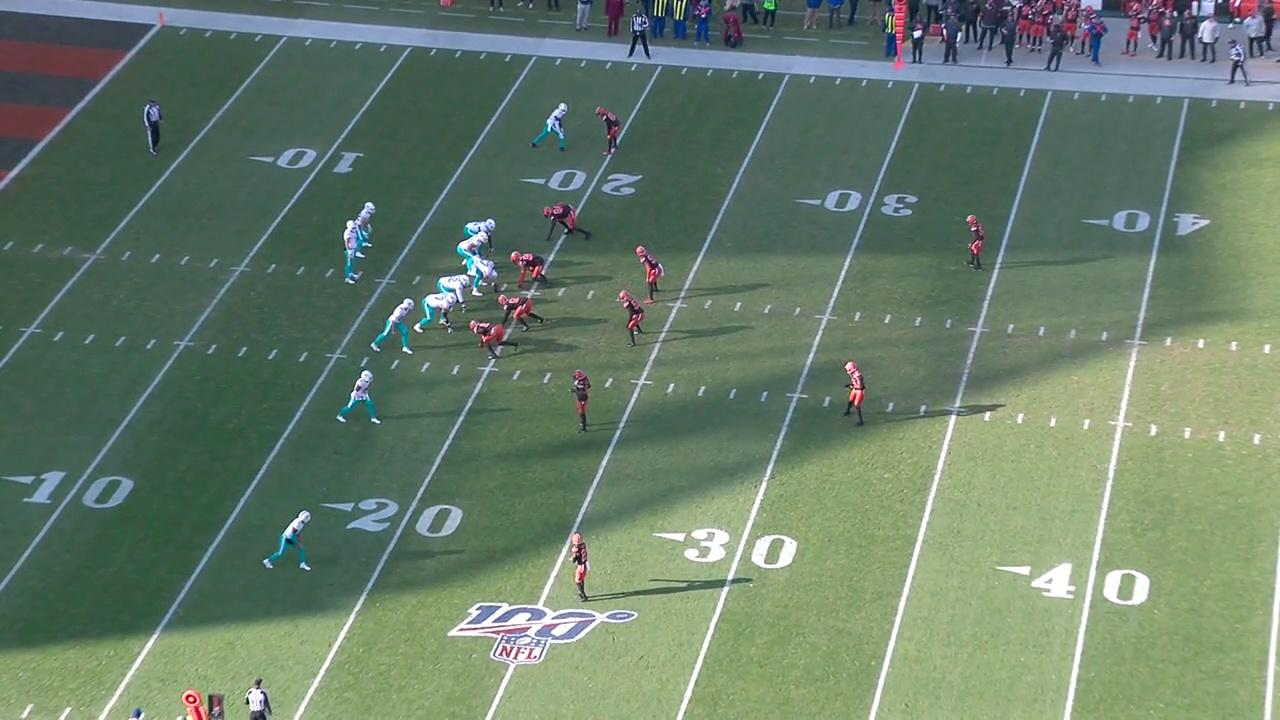defense: (466, 322, 520, 364), (542, 198, 590, 242), (567, 530, 592, 607), (505, 248, 549, 291), (499, 292, 545, 333), (616, 290, 646, 348), (569, 367, 594, 436), (843, 357, 866, 431), (594, 103, 623, 160), (637, 248, 665, 306), (963, 210, 987, 274)
oline: (414, 290, 456, 333), (468, 256, 502, 298), (459, 233, 490, 266), (461, 215, 499, 237), (435, 274, 472, 292)
qb: (339, 218, 362, 286)
ref: (623, 8, 656, 61), (1225, 35, 1253, 92), (144, 94, 167, 163), (243, 673, 276, 720)
skill: (258, 505, 315, 572), (337, 365, 388, 426), (369, 297, 414, 354), (530, 99, 570, 157), (357, 200, 378, 253)
